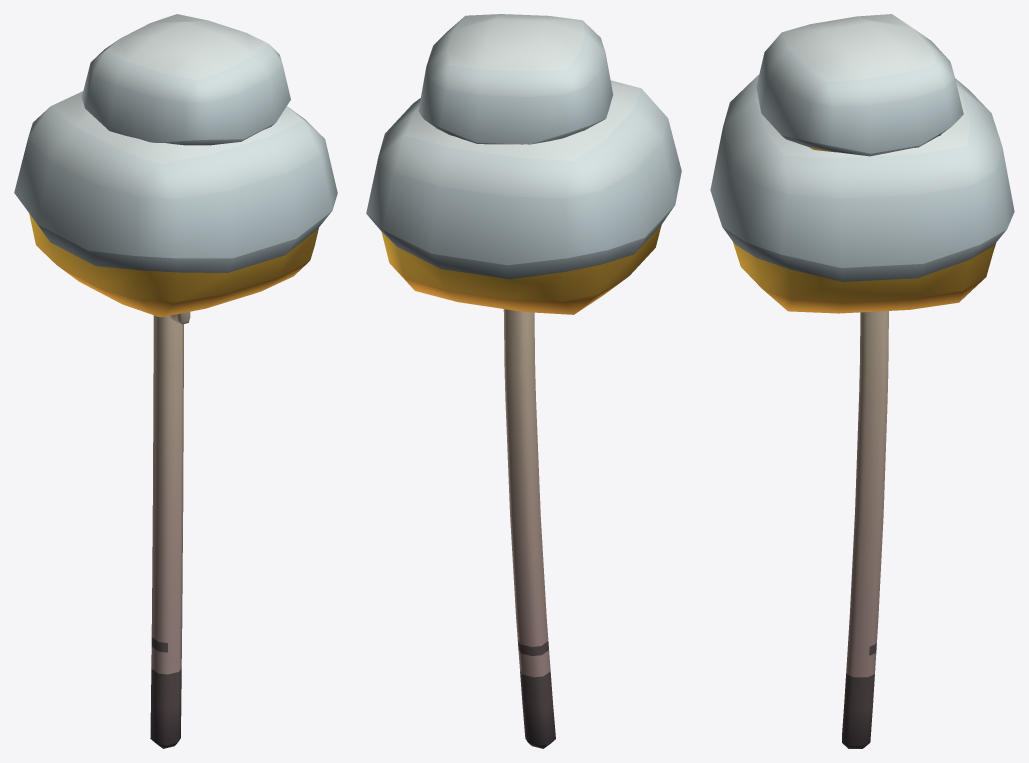
File: birch_tree_col2_09_snow.fbx
3 views of the same model, side by side, from view 1: azimuth 30°, elevation 25°; view 2: azimuth 150°, elevation 25°; view 3: azimuth 270°, elevation 25° (orthographic). The views are drawn at different scales.
Parts seen in each view (by area): view 1: birch_tree_col2_09_snow; view 2: birch_tree_col2_09_snow; view 3: birch_tree_col2_09_snow.
Part boxes in pixels (x1,y1,x2,y2): birch_tree_col2_09_snow: [14, 14, 337, 748]; birch_tree_col2_09_snow: [366, 14, 681, 748]; birch_tree_col2_09_snow: [710, 14, 1014, 748].
Bounding box in the file's own units: 188 × 489 × 187.
1 material, 1 textured.
